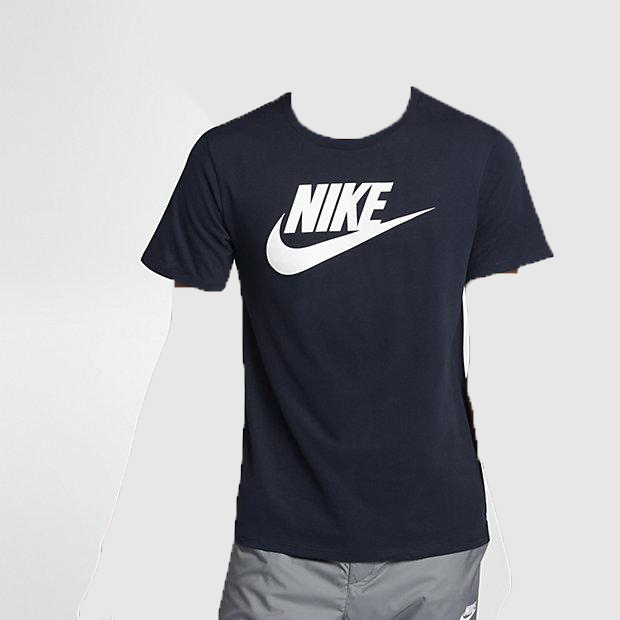teeshirt: (136, 86, 557, 557)
